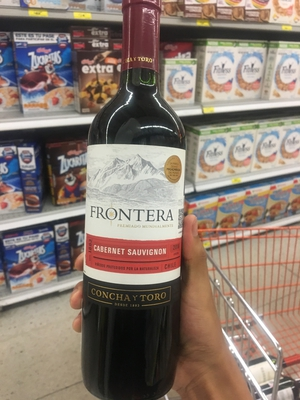frontera cabernet sauvignon: (82, 5, 187, 392)
